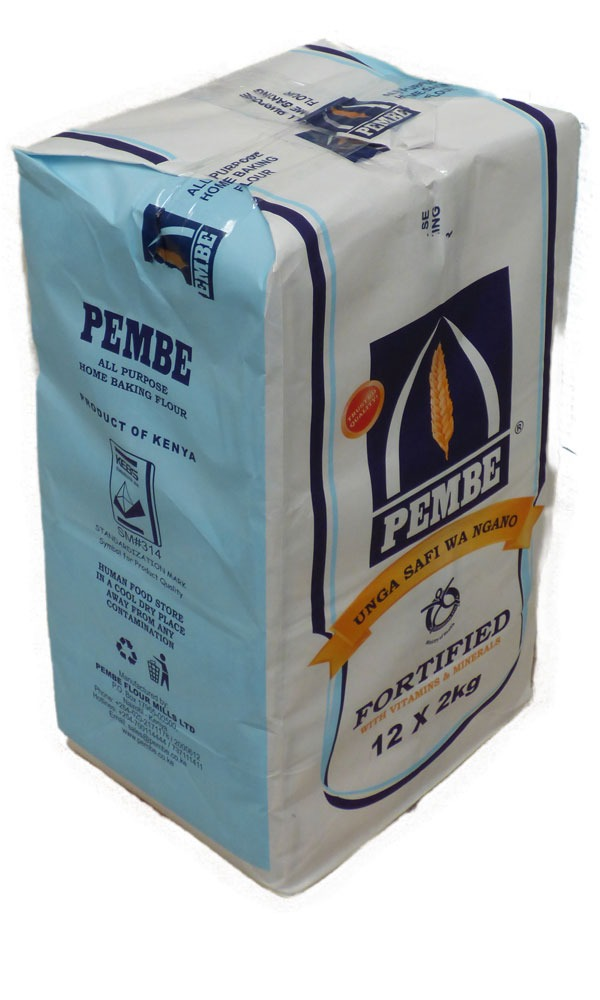wheat_flour_blue_label: (14, 43, 542, 897)
